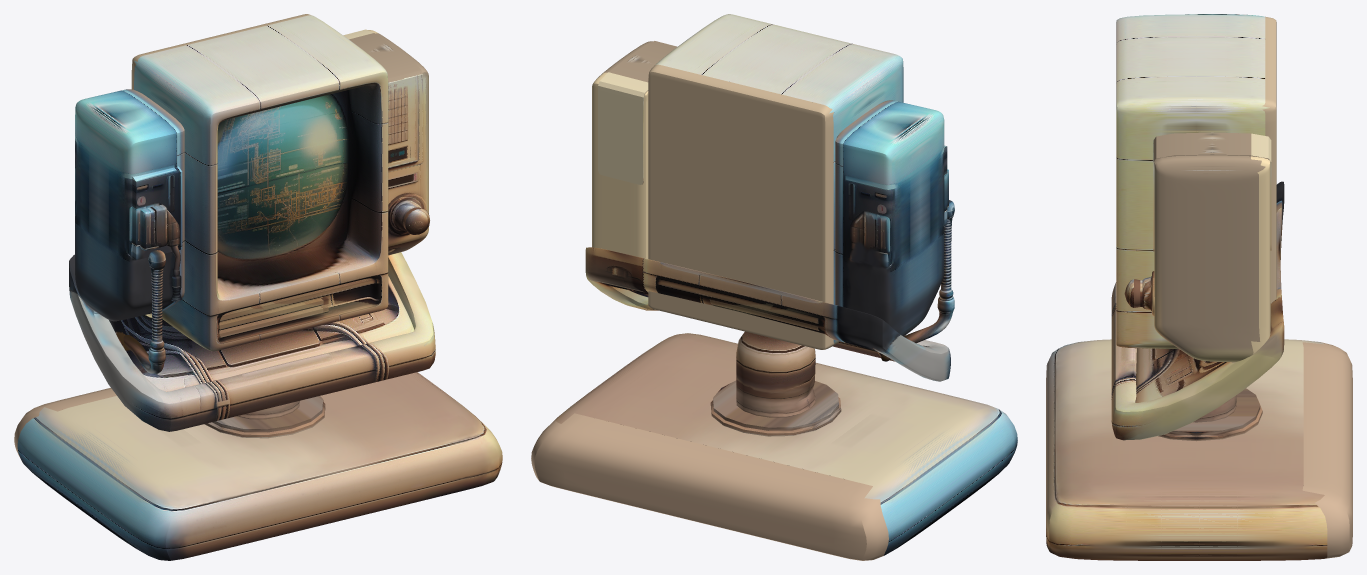
Rendered from computerv2.gltf.
3 views of the same model, side by side, from view 1: azimuth 30°, elevation 25°; view 2: azimuth 150°, elevation 25°; view 3: azimuth 270°, elevation 25° (orthographic).
Visible parts, largest first — view 1: kaedim_mesh_0_Mesh, kaedim_mesh_0_Mesh.002, kaedim_mesh_0_Mesh.017, kaedim_mesh_0_Mesh.001, kaedim_mesh_0_Mesh.004, kaedim_mesh_0_Mesh.008, kaedim_mesh_0_Mesh.005, kaedim_mesh_0_Mesh.009, kaedim_mesh_0_Mesh.011, kaedim_mesh_0_Mesh.014, kaedim_mesh_0_Mesh.012, kaedim_mesh_0_Mesh.007 (+3 smaller); view 2: kaedim_mesh_0_Mesh.002, kaedim_mesh_0_Mesh, kaedim_mesh_0_Mesh.017, kaedim_mesh_0_Mesh.001, kaedim_mesh_0_Mesh.009, kaedim_mesh_0_Mesh.008, kaedim_mesh_0_Mesh.005, kaedim_mesh_0_Mesh.014; view 3: kaedim_mesh_0_Mesh.002, kaedim_mesh_0_Mesh, kaedim_mesh_0_Mesh.005, kaedim_mesh_0_Mesh.001, kaedim_mesh_0_Mesh.008, kaedim_mesh_0_Mesh.004, kaedim_mesh_0_Mesh.009, kaedim_mesh_0_Mesh.007.
Part boxes in pixels (box(x1,y1,x2,y2)): kaedim_mesh_0_Mesh: box(131, 14, 388, 351); kaedim_mesh_0_Mesh.002: box(14, 372, 502, 560); kaedim_mesh_0_Mesh.017: box(75, 89, 184, 321); kaedim_mesh_0_Mesh.001: box(69, 252, 435, 431); kaedim_mesh_0_Mesh.004: box(109, 276, 414, 391); kaedim_mesh_0_Mesh.008: box(343, 29, 422, 172); kaedim_mesh_0_Mesh.005: box(368, 30, 428, 255); kaedim_mesh_0_Mesh.009: box(204, 337, 325, 438); kaedim_mesh_0_Mesh.011: box(132, 166, 182, 260); kaedim_mesh_0_Mesh.014: box(123, 250, 165, 374); kaedim_mesh_0_Mesh.012: box(140, 204, 179, 250); kaedim_mesh_0_Mesh.007: box(388, 194, 429, 235); kaedim_mesh_0_Mesh.002: box(531, 333, 1017, 560); kaedim_mesh_0_Mesh: box(648, 14, 903, 349); kaedim_mesh_0_Mesh.017: box(835, 100, 944, 336); kaedim_mesh_0_Mesh.001: box(585, 247, 950, 381); kaedim_mesh_0_Mesh.009: box(710, 331, 841, 436); kaedim_mesh_0_Mesh.008: box(598, 41, 677, 184); kaedim_mesh_0_Mesh.005: box(592, 41, 652, 258); kaedim_mesh_0_Mesh.014: box(881, 200, 954, 361); kaedim_mesh_0_Mesh.002: box(1046, 339, 1352, 560); kaedim_mesh_0_Mesh: box(1116, 14, 1276, 348); kaedim_mesh_0_Mesh.005: box(1154, 155, 1270, 362); kaedim_mesh_0_Mesh.001: box(1111, 181, 1284, 440); kaedim_mesh_0_Mesh.008: box(1153, 132, 1271, 251); kaedim_mesh_0_Mesh.004: box(1135, 348, 1226, 402); kaedim_mesh_0_Mesh.009: box(1135, 388, 1262, 441); kaedim_mesh_0_Mesh.007: box(1124, 271, 1154, 316).
Size of the model in its own units: 1.84 by 2 by 1.33.
14 materials, 2 textured.
